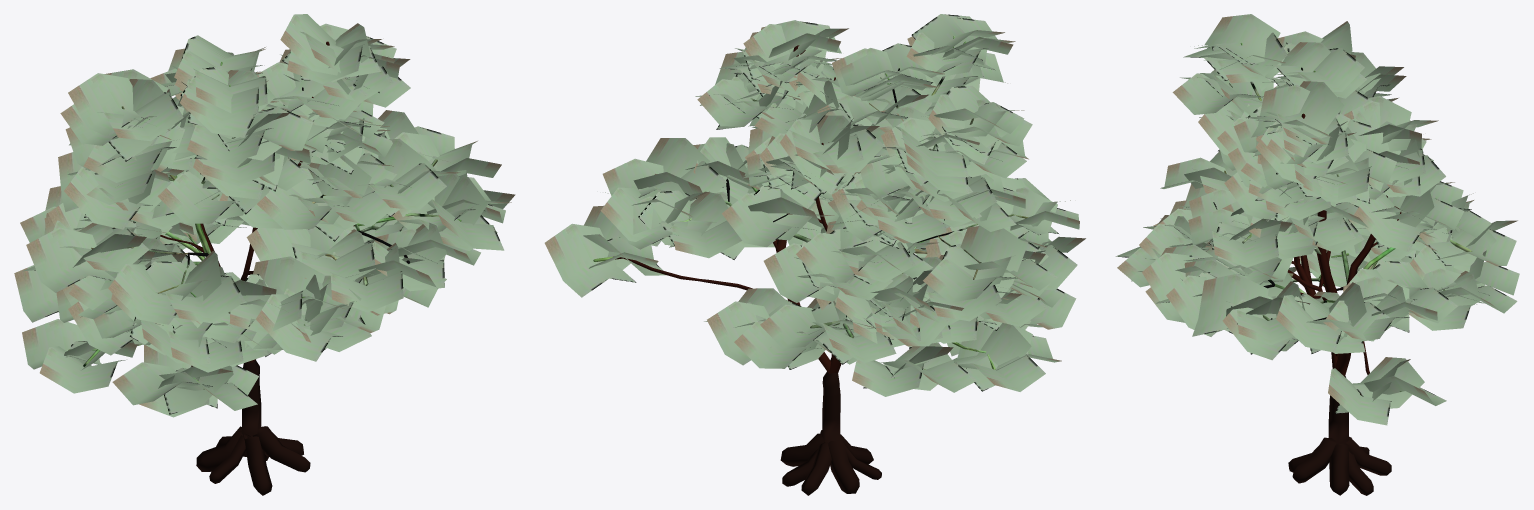
File: tree.obj
3 views of the same model, side by side, from view 1: azimuth 30°, elevation 25°; view 2: azimuth 150°, elevation 25°; view 3: azimuth 270°, elevation 25° (orthographic). The views are drawn at different scales.
Parts seen in each view (by area): view 1: node_5, node_5.001, node_5.002; view 2: node_5, node_5.001, node_5.002; view 3: node_5, node_5.001, node_5.002.
Boxes of the visible parts, x1,y1,x2,y2 form: node_5: (14,14,515,417); node_5.001: (196,360,310,495); node_5.002: (113,41,354,366); node_5: (544,14,1085,396); node_5.001: (780,371,881,495); node_5.002: (613,45,902,373); node_5: (1115,14,1519,425); node_5.001: (1288,376,1391,495); node_5.002: (1287,113,1401,395).
Bounding box in the file's own units: 11.79 × 10.71 × 9.32.
3 materials, 1 textured.
